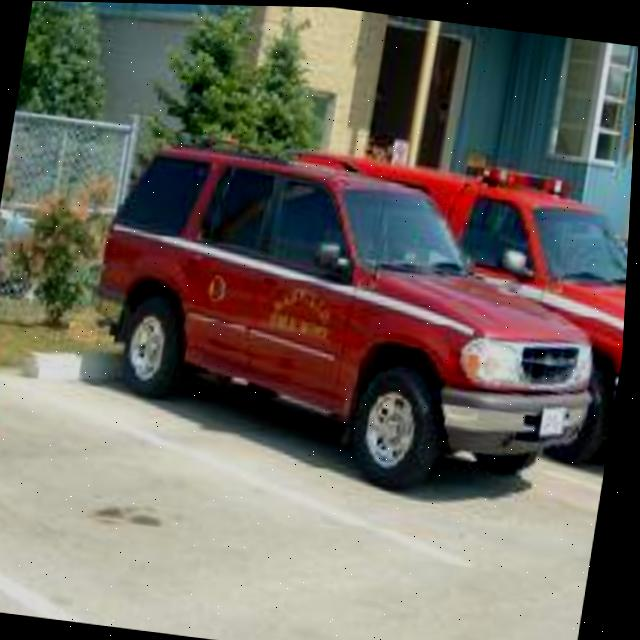emergency: (81, 128, 622, 494)
